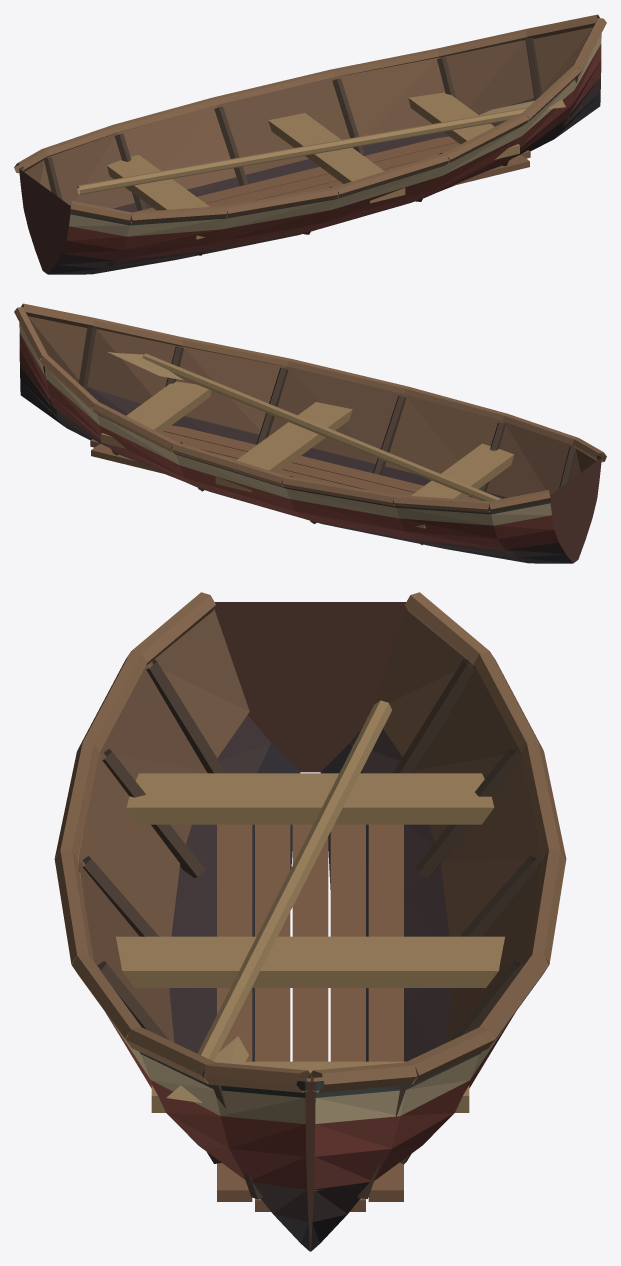
The model's file is clinker_skiff.glb.
3 views of the same model, one above another, from view 1: azimuth 30°, elevation 25°; view 2: azimuth 150°, elevation 25°; view 3: azimuth 270°, elevation 25° (orthographic). The views are drawn at different scales.
Visible parts, largest first — view 1: clinker_skiff; view 2: clinker_skiff; view 3: clinker_skiff.
Part boxes in pixels (x1=…): clinker_skiff: x1=14, y1=14, x2=606, y2=274; clinker_skiff: x1=14, y1=303, x2=606, y2=563; clinker_skiff: x1=54, y1=592, x2=566, y2=1251.
Size of the model in its own units: 3.59 by 0.8366 by 1.42.
